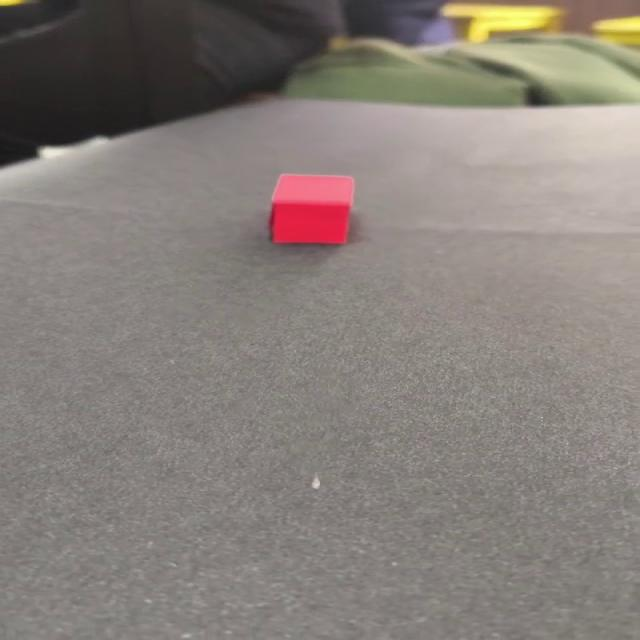red block: (268, 172, 355, 245)
